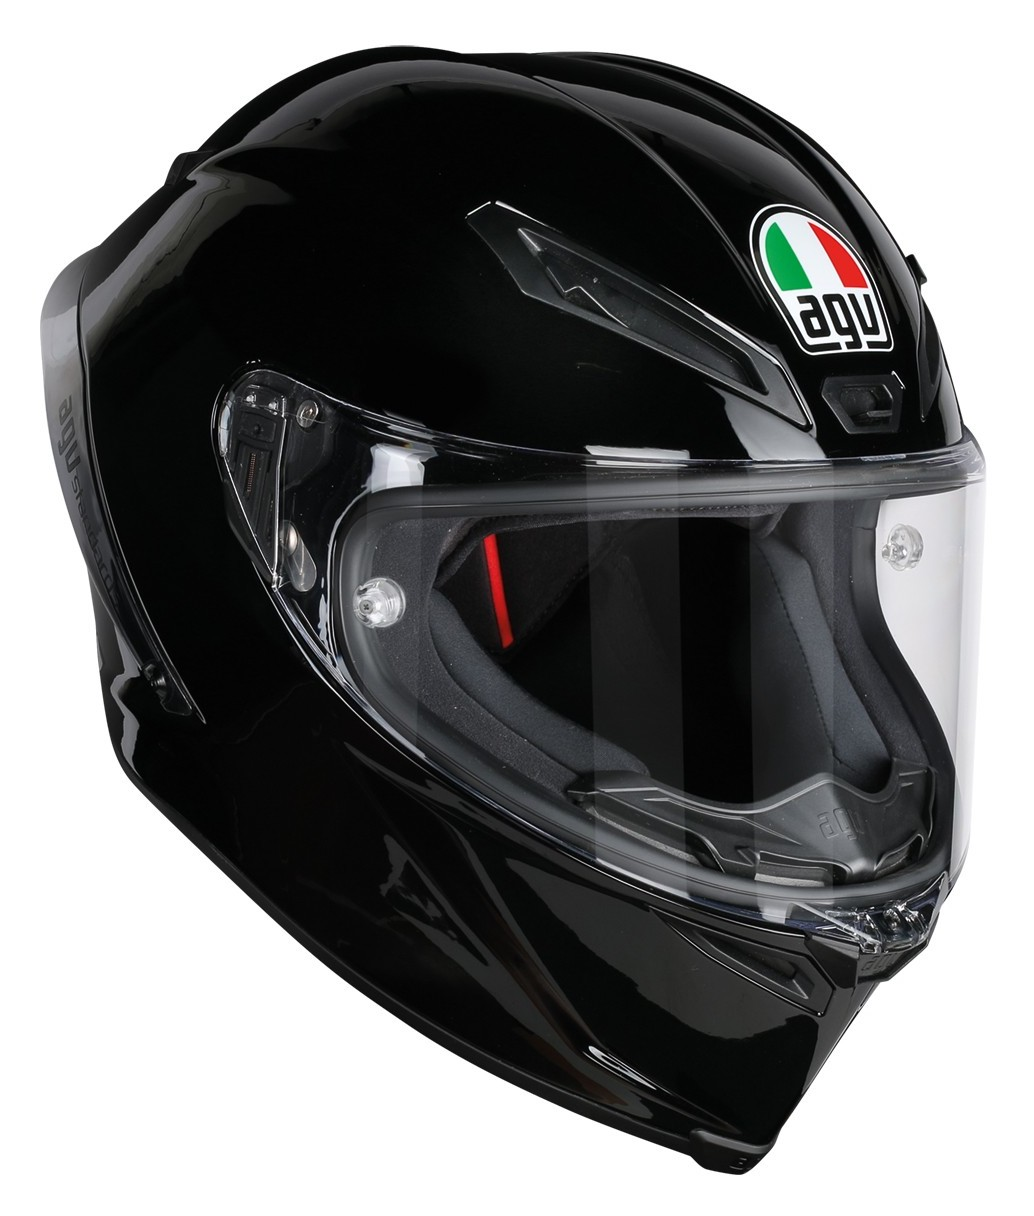helmet: (18, 34, 1009, 1216)
